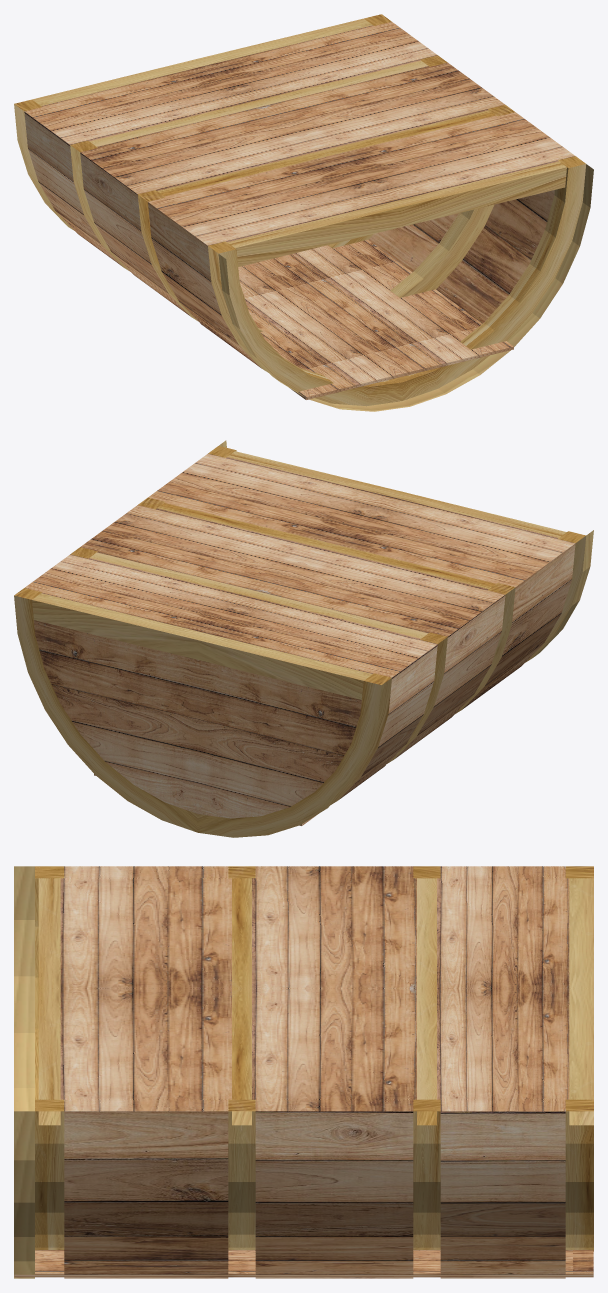
File: ShipHull.fbx
3 views of the same model, one above another, from view 1: azimuth 30°, elevation 25°; view 2: azimuth 150°, elevation 25°; view 3: azimuth 270°, elevation 25° (orthographic). The views are drawn at different scales.
Visible parts, largest first — view 1: Cylinder, Ship Floor; view 2: Cylinder; view 3: Cylinder, Ship Floor.
Boxes of the visible parts, left/top/right/bottom form: Cylinder: left=14, top=14, right=593, bottom=411; Ship Floor: left=238, top=240, right=513, bottom=399; Cylinder: left=14, top=440, right=593, bottom=837; Cylinder: left=14, top=866, right=593, bottom=1278; Ship Floor: left=14, top=1250, right=593, bottom=1277.
Bounding box in the file's own units: 1765 × 884 × 1765.
